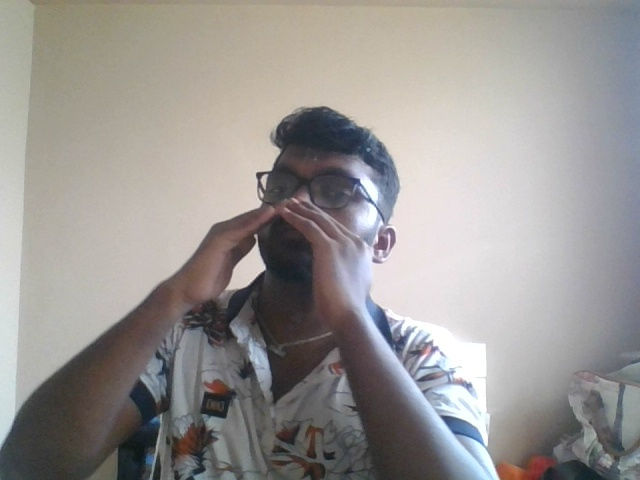Thank you: (185, 188, 370, 331)
